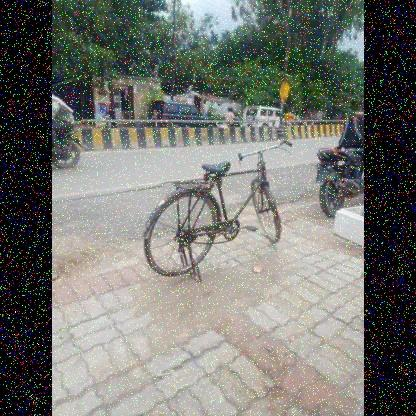Bicycle: (126, 126, 299, 295)
